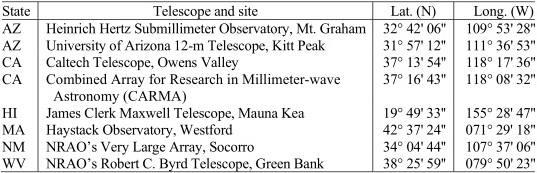column: (44, 1, 366, 173), (464, 1, 536, 173), (381, 1, 445, 173), (1, 1, 31, 173)
row: (1, 38, 537, 53), (1, 73, 537, 88), (1, 123, 537, 138), (1, 140, 537, 155), (1, 5, 537, 19), (1, 22, 537, 36), (1, 56, 537, 70), (1, 90, 537, 104), (1, 157, 537, 171), (1, 107, 537, 119)
